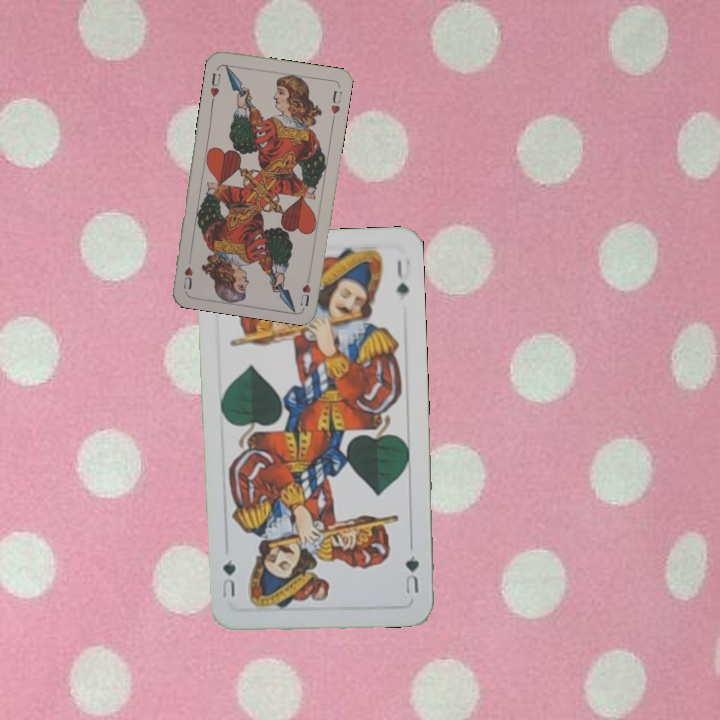GU: (401, 551, 422, 596)
HU: (296, 269, 313, 308), (206, 69, 223, 99)
